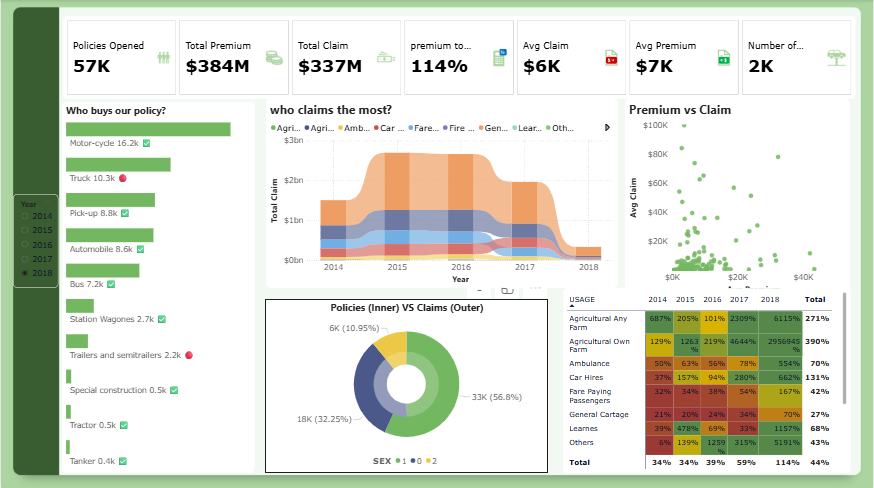

What the dashboard file says about the page in this screenshot:
{"tool":"powerbi","page":{"name":"Dashboard","canvas":[1920,1080],"ordinal":0},"visuals":[{"type":"slicer","fields":{"Values":["calendar.Date.Variation.Date Hierarchy.Year"]},"box":[27.3,430,100.1,207],"z":0},{"type":"donutChart","title":"Policies (Inner) VS Claims (Outer)","fields":{"Category":["policies.SEX"],"Y":["policies.Policies Opened"]},"box":[581.5,662.2,624.2,382.1],"z":1000},{"type":"clusteredBarChart","title":"Who buys our policy?","fields":{"Category":["policies.TYPE_VEHICLE"],"Y":["policies.Policies Opened","policies.Dummy Series"]},"box":[134.2,227.5,425.4,816.7],"z":2000},{"type":"ribbonChart","title":"who claims the most?","fields":{"Category":["calendar.Date.Variation.Date Hierarchy.Year"],"Y":["policies.Claim Paid"],"Series":["policies.USAGE"]},"box":[584.6,220.7,775.7,416.3],"z":3000},{"type":"donutChart","fields":{"Y":["policies.Number of Claims"],"Category":["policies.SEX"]},"box":[685.9,754.7,415.3,189.9],"z":4000},{"type":"scatterChart","title":"Premium vs Claim","fields":{"Category":["policies.TYPE_VEHICLE","policies.MAKE"],"X":["policies.Avg Premium"],"Y":["policies.Avg Claim"]},"box":[1376.3,220.7,495.9,439.1],"z":5000},{"type":"cardVisual","fields":{"Data":["policies.Policies Opened","policies.Total Premium","policies.Total Claim","policies.premium to claim Ratio","policies.Avg Claim","policies.Avg Premium","policies.Number of Claims"]},"box":[137.7,38,1746.7,182.7],"z":6000},{"type":"pivotTable","fields":{"Rows":["policies.USAGE"],"Columns":["calendar.Date.Variation.Date Hierarchy.Year"],"Values":["policies.premium to claim Ratio"]},"box":[1238.9,636,633.7,408.2],"z":7000}]}

Visuals, with their boxes in screenshot pixels (x1, y1, x2, y2), scaled from the page's 1920x1080 canvas onto the 874x488 screenshot:
slicer - calendar.Date.Variation.Date Hierarchy.Year: box(12, 194, 58, 288)
"Policies (Inner) VS Claims (Outer)" donutChart: box(265, 299, 549, 472)
"Who buys our policy?" clusteredBarChart: box(61, 103, 255, 472)
"who claims the most?" ribbonChart: box(266, 100, 619, 288)
donutChart - policies.Number of Claims x policies.SEX: box(312, 341, 501, 427)
"Premium vs Claim" scatterChart: box(627, 100, 852, 298)
cardVisual - policies.Policies Opened x policies.Total Premium: box(63, 17, 858, 100)
pivotTable - policies.USAGE x calendar.Date.Variation.Date Hierarchy.Year: box(564, 287, 852, 472)
